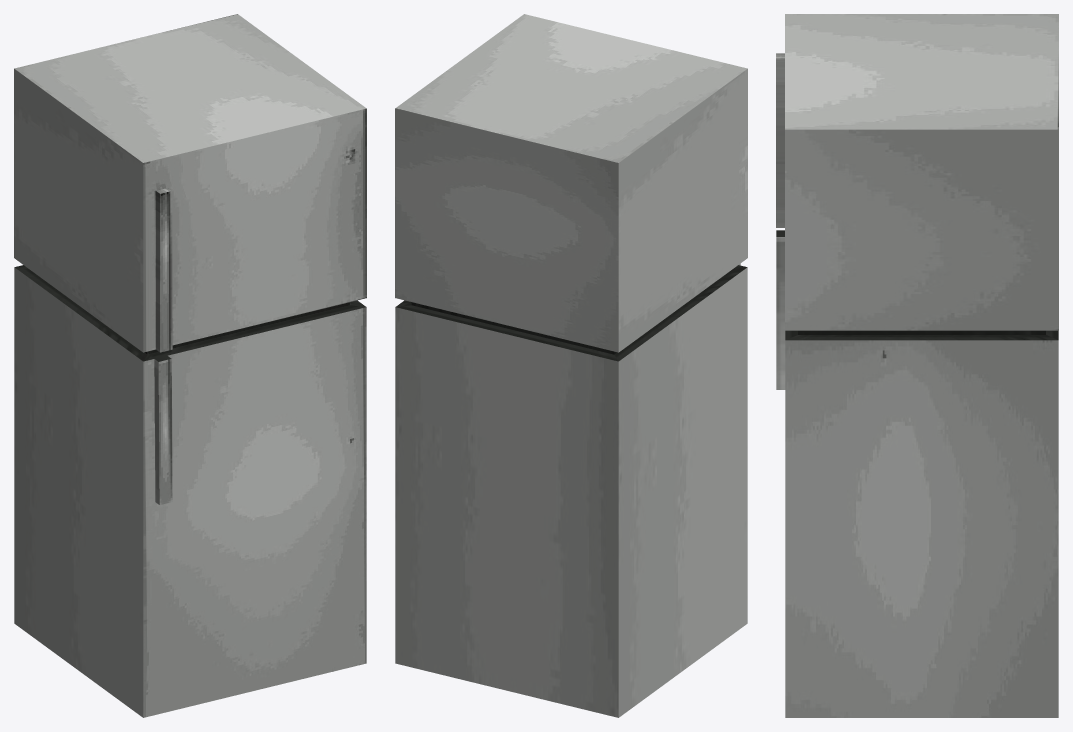
Rendered from fridgepsx.fbx.
3 views of the same model, side by side, from view 1: azimuth 30°, elevation 25°; view 2: azimuth 150°, elevation 25°; view 3: azimuth 270°, elevation 25° (orthographic). The views are drawn at different scales.
Parts seen in each view (by area): view 1: Cube.001; view 2: Cube.001; view 3: Cube.001.
Boxes of the visible parts, x1,y1,x2,y2 form: Cube.001: [14, 14, 366, 717]; Cube.001: [395, 14, 747, 717]; Cube.001: [776, 14, 1058, 717].
Size of the model in its own units: 200 by 475 by 207.
